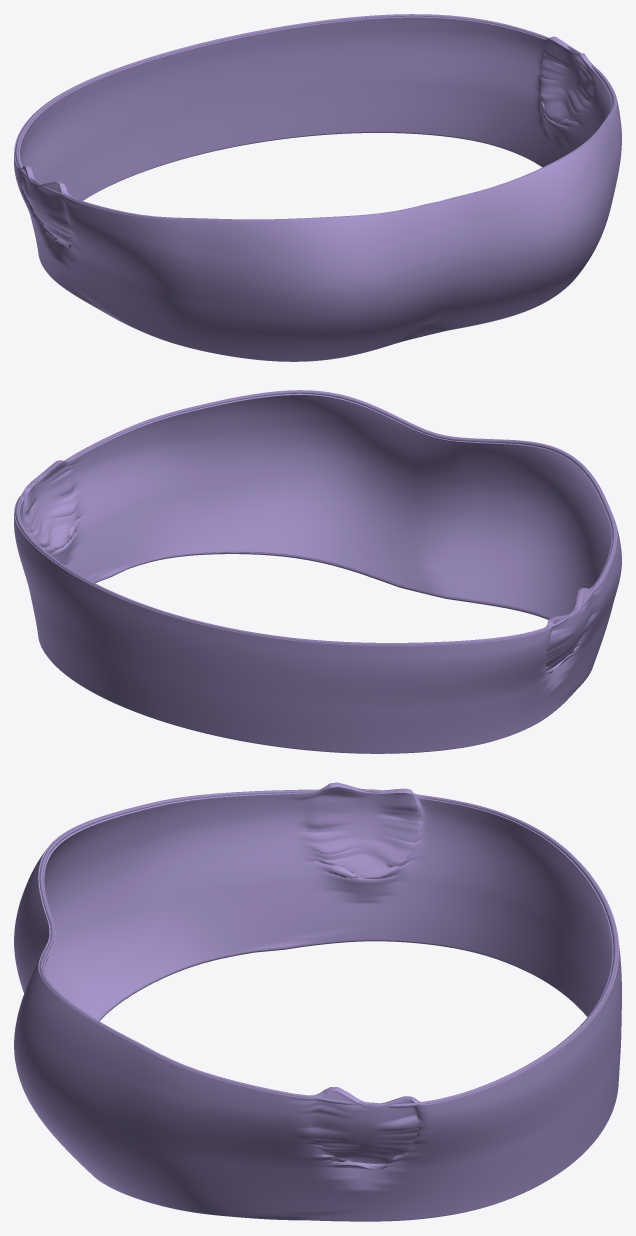
The model's file is Feminine-bandeau-top.glb.
3 renders of one model, top to bottom at view 1: azimuth 30°, elevation 25°; view 2: azimuth 150°, elevation 25°; view 3: azimuth 270°, elevation 25°, orthographic. The views are drawn at different scales.
Visible parts, largest first — view 1: Clothing / Bandeau, Bandeau / bound edge.001 export, Bandeau / bound edge export; view 2: Clothing / Bandeau, Bandeau / bound edge.001 export, Bandeau / bound edge export; view 3: Clothing / Bandeau, Bandeau / bound edge.001 export, Bandeau / bound edge export.
Boxes of the visible parts, x1,y1,x2,y2 form: Clothing / Bandeau: (14, 16, 621, 361); Bandeau / bound edge.001 export: (15, 14, 615, 220); Bandeau / bound edge export: (100, 132, 536, 190); Clothing / Bandeau: (14, 390, 621, 753); Bandeau / bound edge.001 export: (15, 390, 615, 645); Bandeau / bound edge export: (95, 552, 549, 753); Clothing / Bandeau: (14, 782, 621, 1221); Bandeau / bound edge.001 export: (39, 789, 617, 1107); Bandeau / bound edge export: (99, 940, 536, 1221).
Size of the model in its own units: 0.6455 by 0.1812 by 0.5245.
